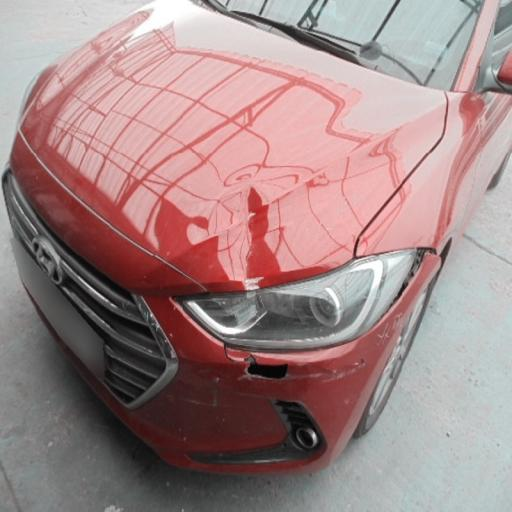broken: (241, 328, 317, 406)
dent: (188, 165, 316, 290)
scratch: (170, 346, 230, 449), (324, 341, 374, 397)
